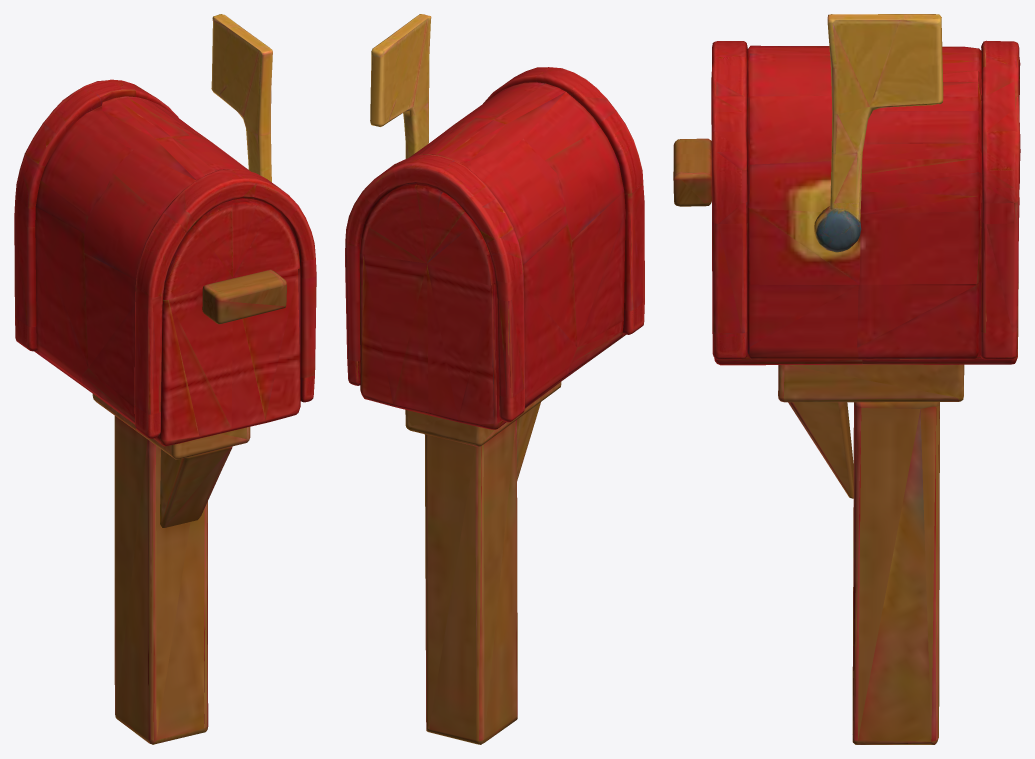
File: mailbox.glb
The picture shows the model from 3 angles, left to right: view 1: azimuth 30°, elevation 25°; view 2: azimuth 150°, elevation 25°; view 3: azimuth 270°, elevation 25°; orthographic projection. The views are drawn at different scales.
Bounding box in the file's own units: 0.2887 × 1 × 0.4167.
1 material, 1 textured.
